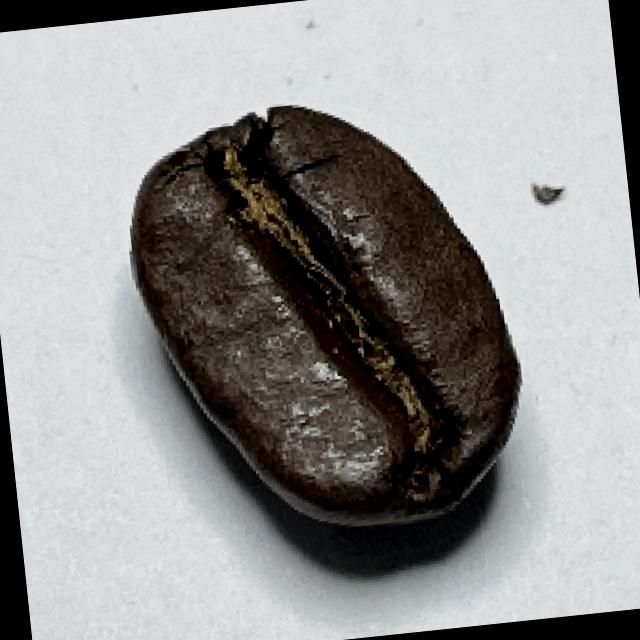bean: (111, 77, 540, 550)
